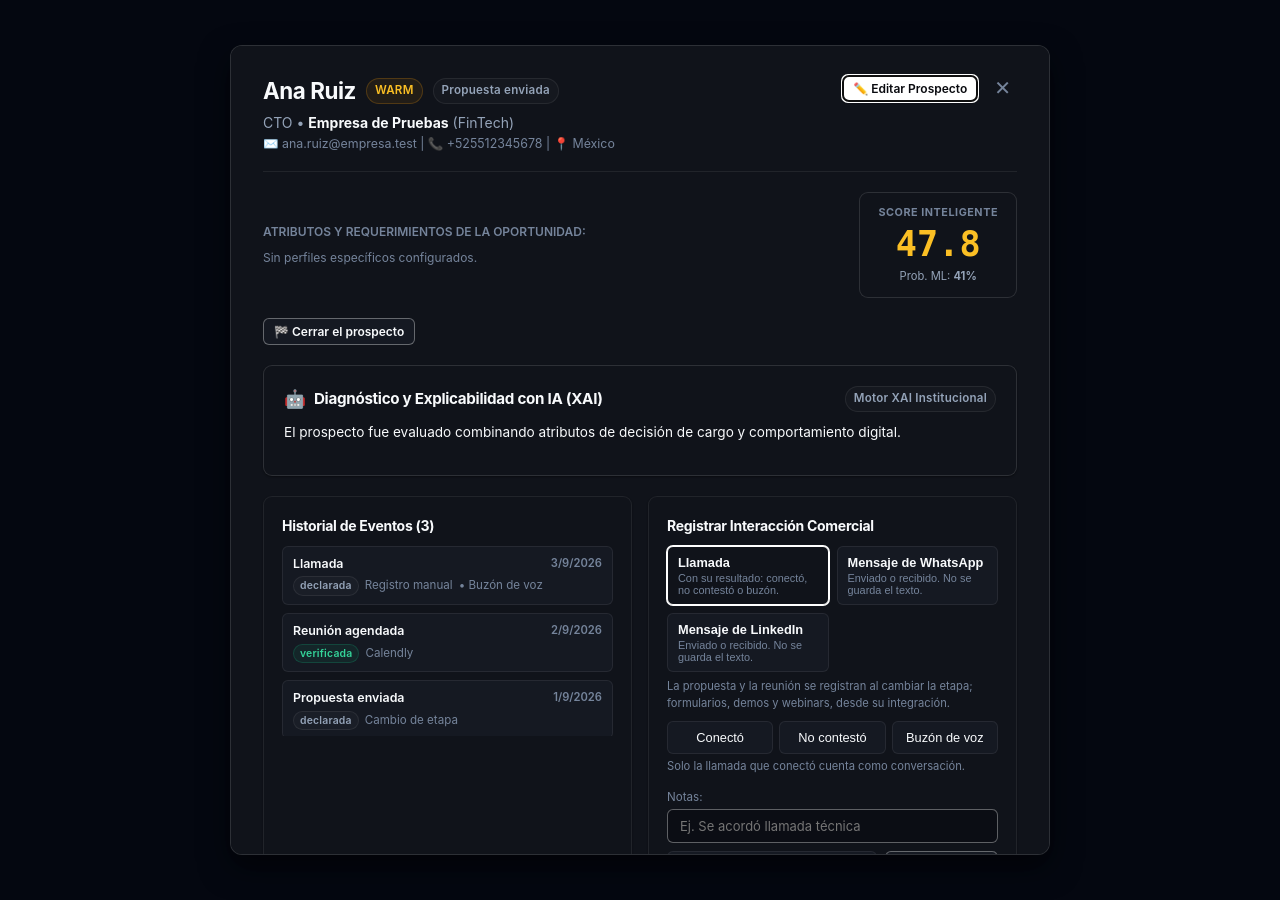
Test: registrar › el motivo del rechazo llega a la persona
Click the radio button labelled "Mensaje de WhatsApp". click: point(917, 575)
box: [836,546,998,605]
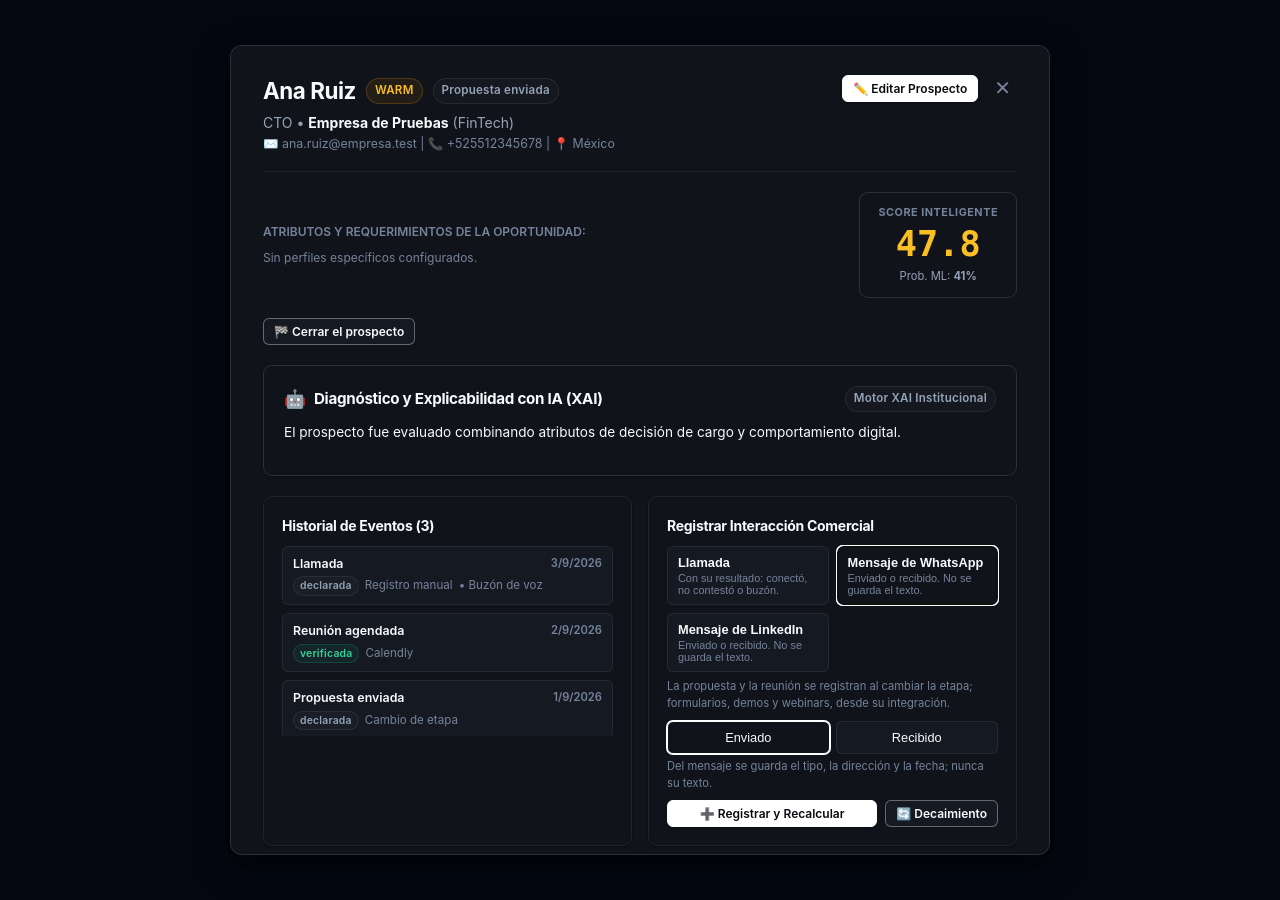
Click the button "➕ Registrar y Recalcular". click: point(772, 813)
box: [667,800,877,827]
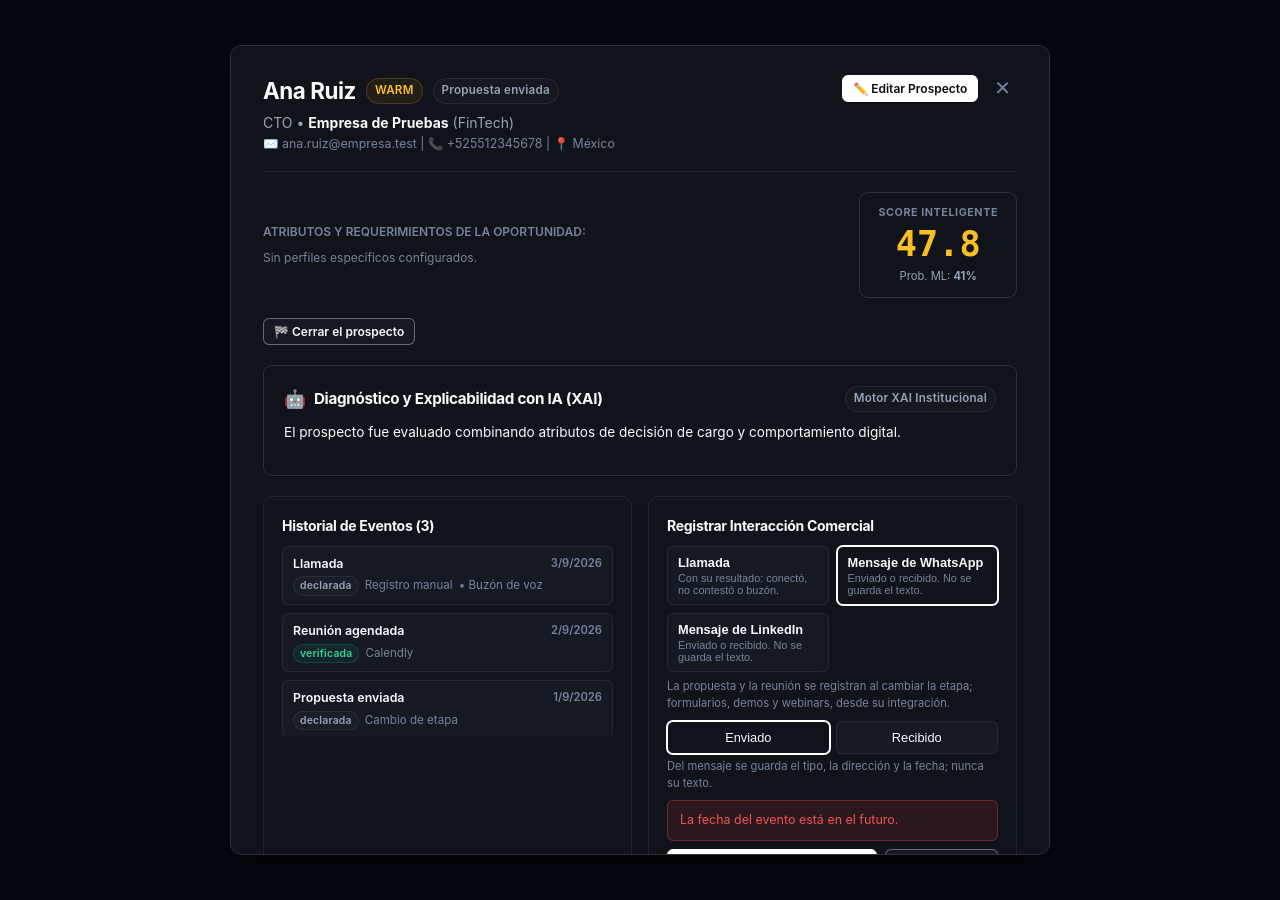
expect the message reads "La fecha del evento está en el futuro.": met, box [680,812,898,827]
